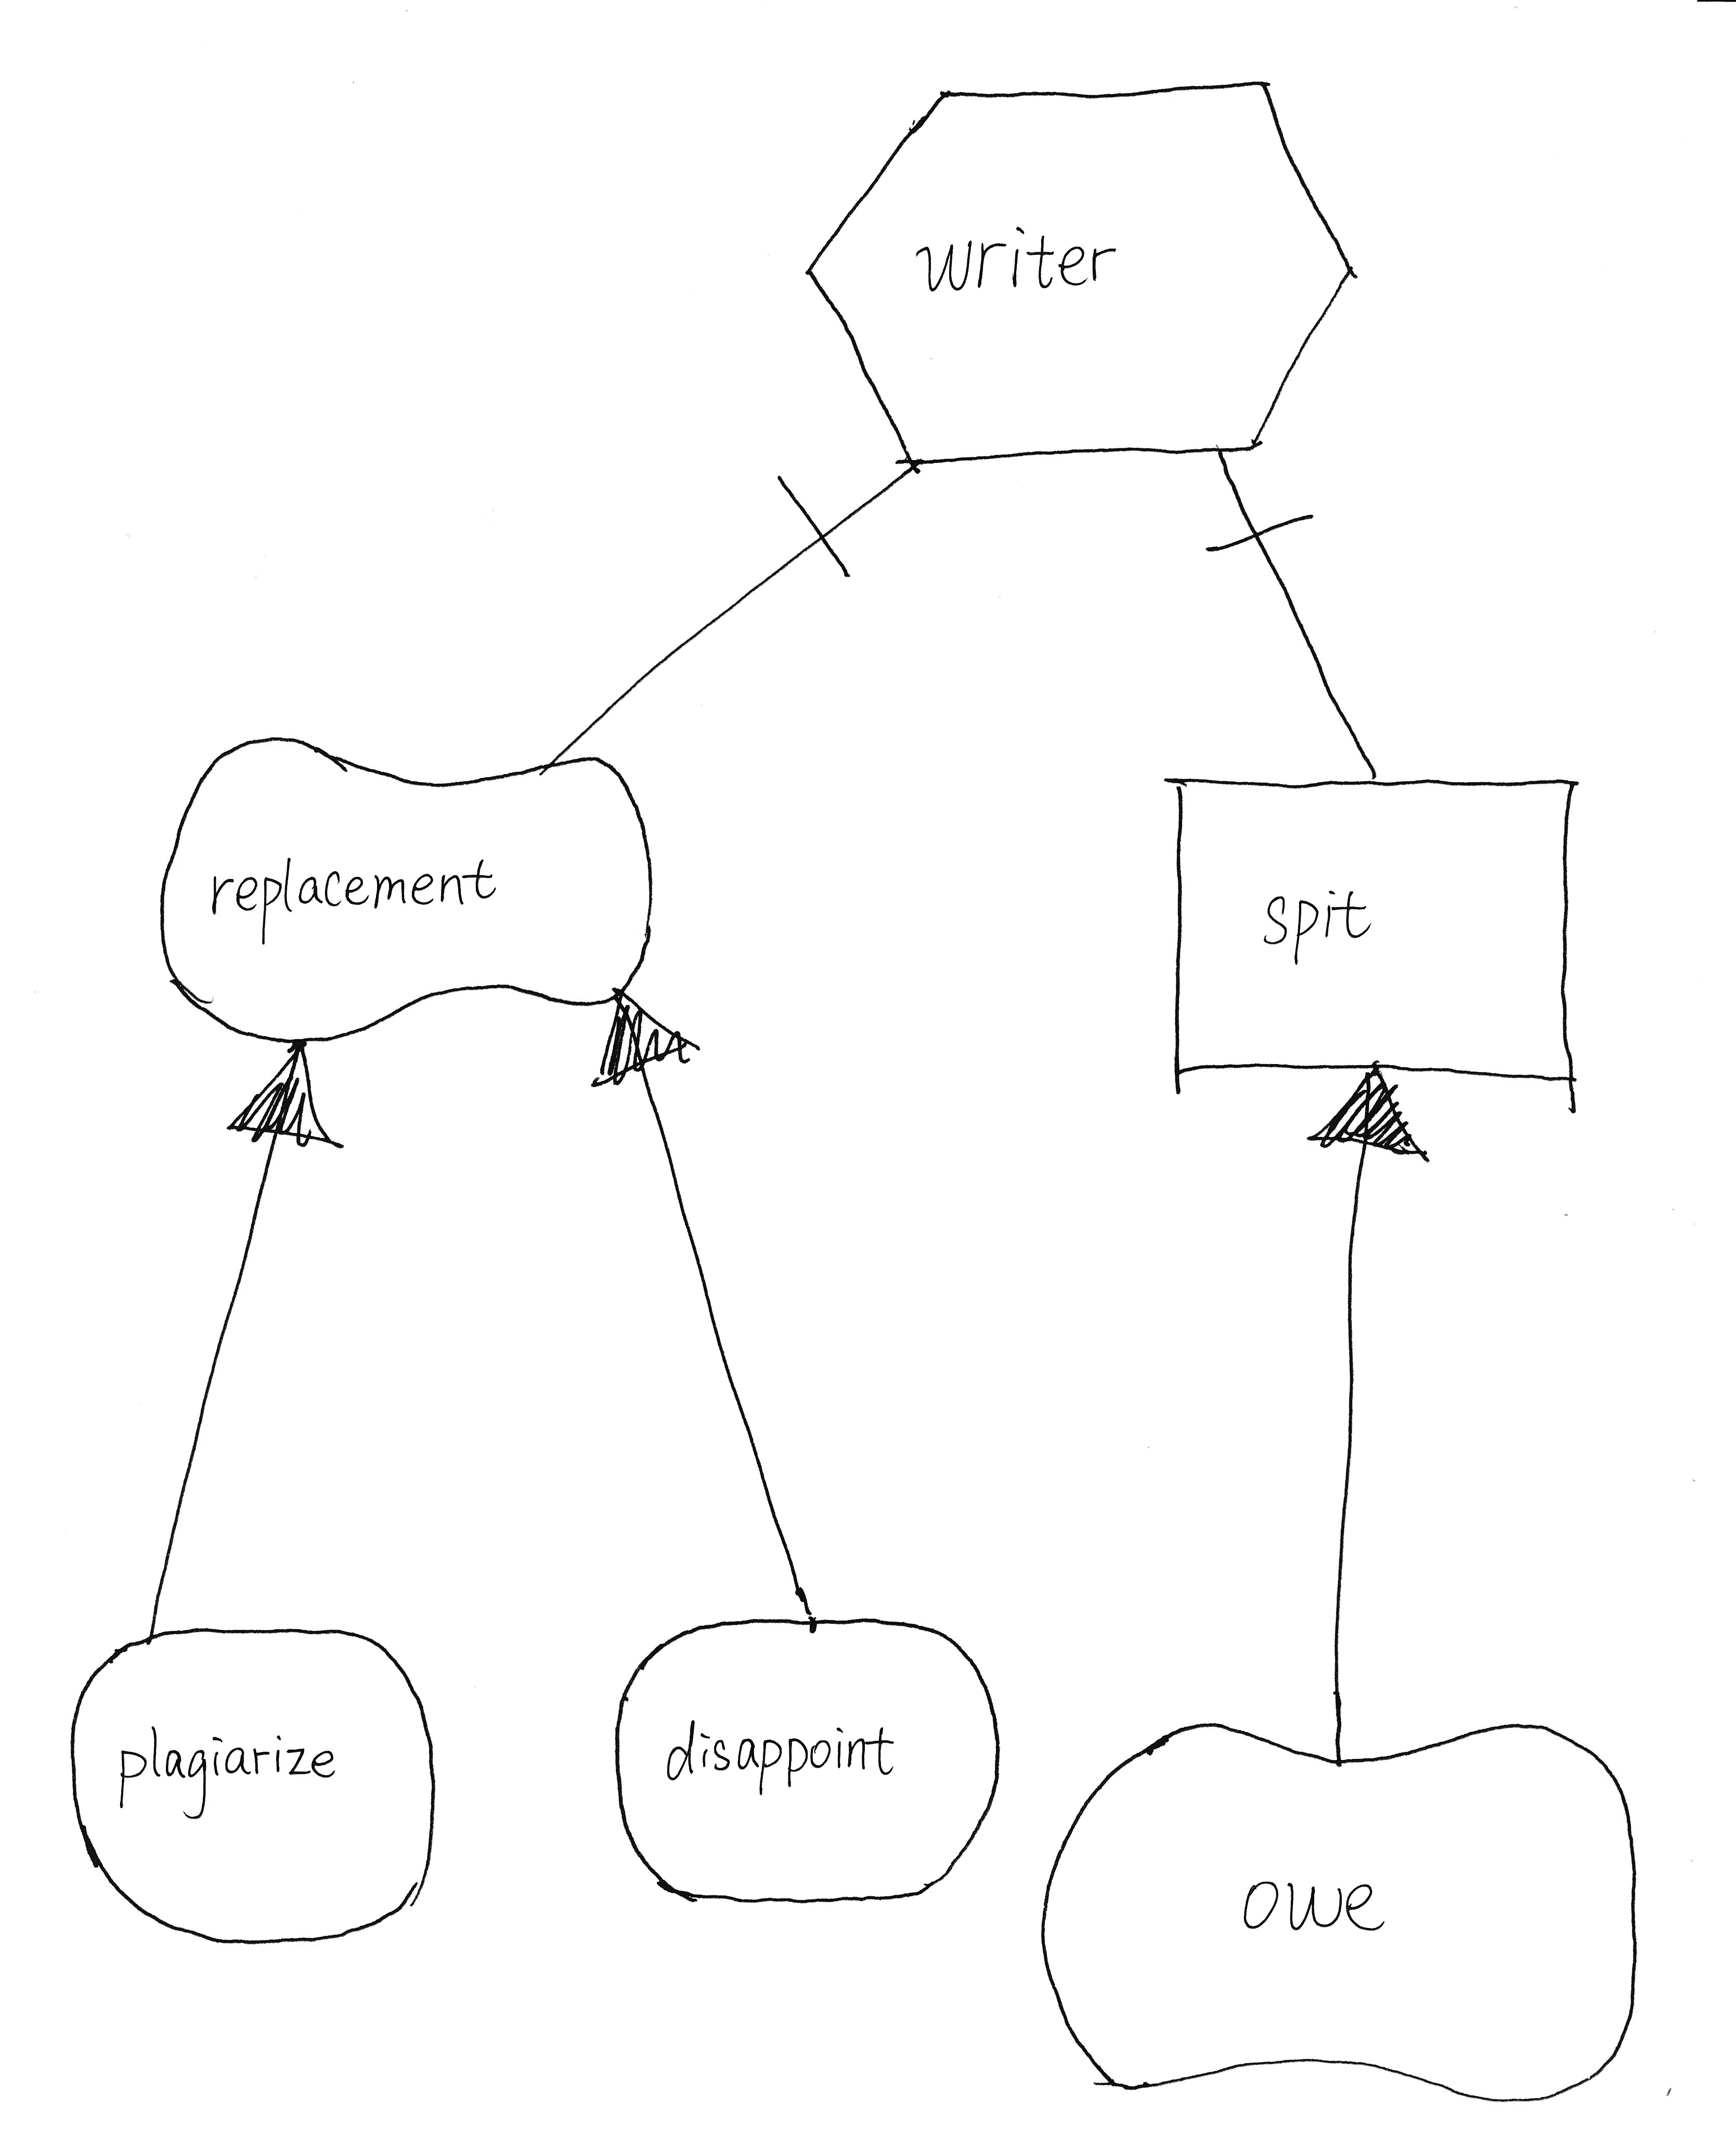and: (746, 430, 946, 588), (1185, 425, 1325, 569)
goal: (44, 1593, 478, 1961), (592, 1598, 1010, 1936)
or: (197, 1015, 351, 1174), (1302, 1042, 1447, 1180), (576, 971, 712, 1116)
quality: (1015, 1692, 1665, 2112), (129, 709, 677, 1049)
resource: (1139, 742, 1621, 1132)
task: (795, 50, 1375, 496)
